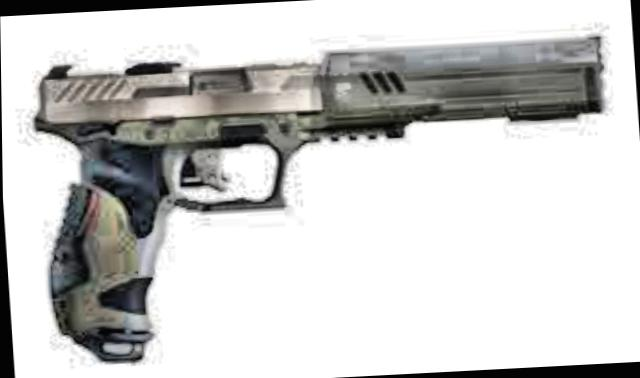pistol: (25, 19, 612, 368)
